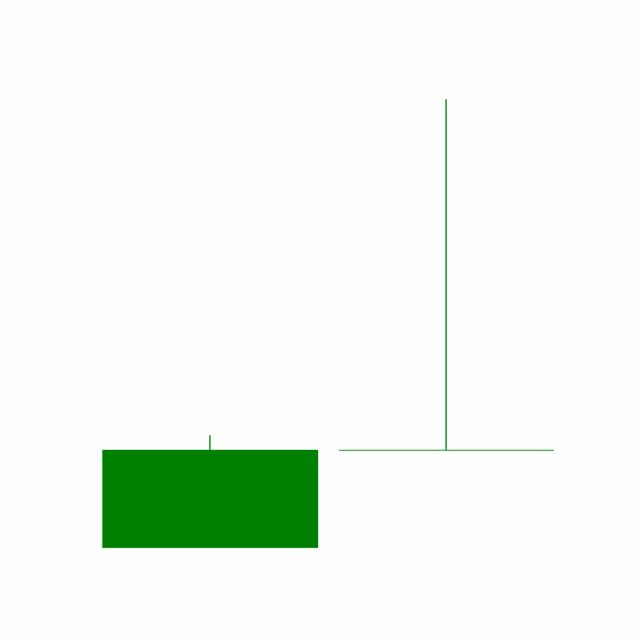Gravestone Doji: (327, 95, 565, 454)
